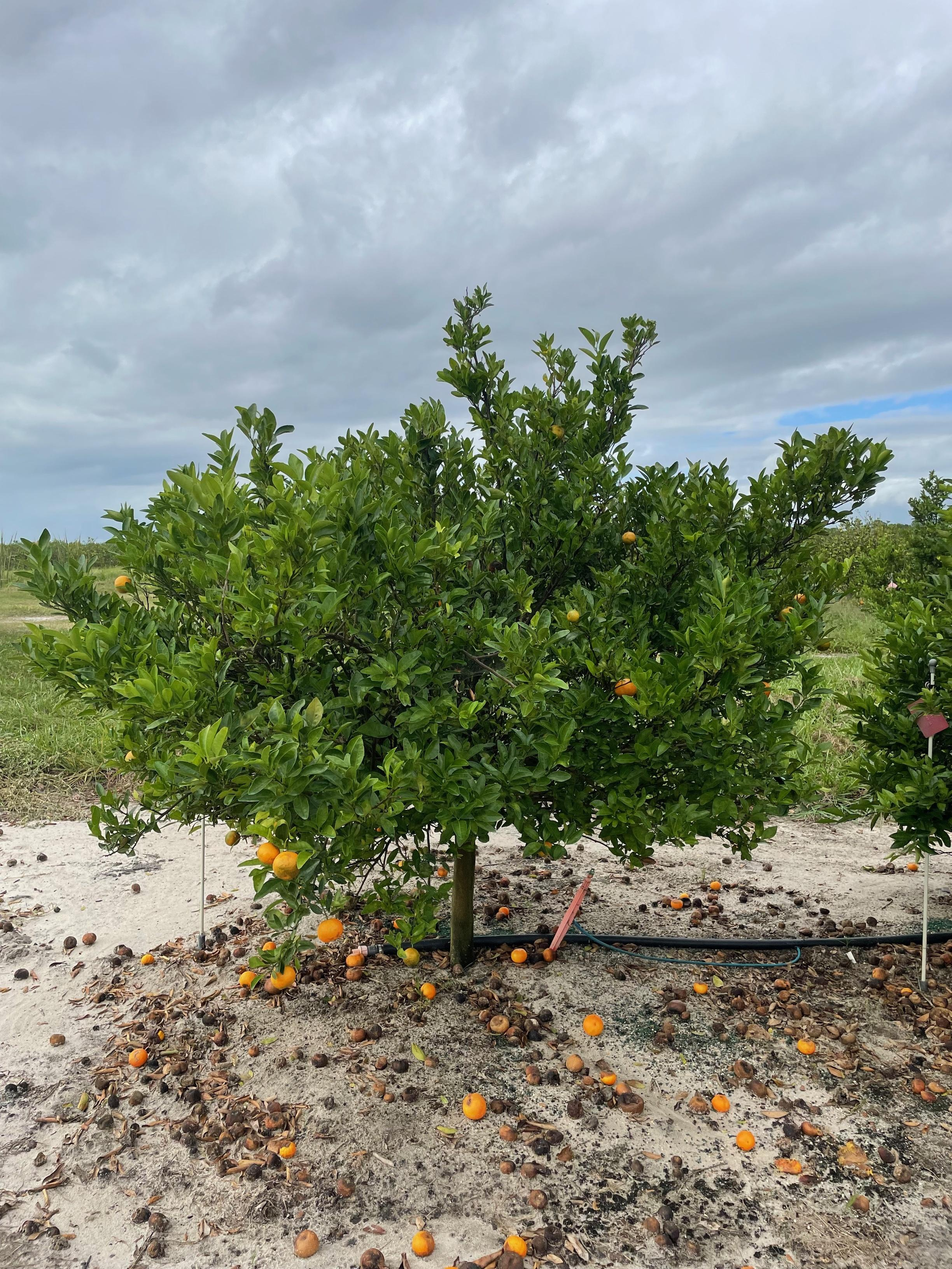fruit_on_ground: (271, 849, 303, 881), (315, 915, 345, 944), (270, 962, 297, 990), (256, 841, 282, 867), (612, 675, 639, 699), (237, 968, 260, 992), (112, 570, 135, 593), (545, 420, 569, 442), (777, 604, 799, 626), (401, 946, 423, 968), (533, 838, 556, 859), (221, 827, 242, 848), (754, 677, 774, 699), (618, 527, 639, 547), (815, 634, 832, 652), (564, 607, 582, 624), (792, 590, 809, 606)
fruit_on_tree: (292, 1227, 321, 1260), (461, 1091, 488, 1120), (410, 1229, 436, 1257), (503, 1233, 529, 1258), (358, 1245, 385, 1268), (581, 1014, 605, 1037), (775, 1156, 803, 1175), (523, 1063, 544, 1087), (526, 1188, 548, 1210), (620, 1092, 643, 1113), (686, 1094, 711, 1113), (335, 1176, 357, 1197), (735, 1129, 756, 1151), (127, 1046, 149, 1067), (732, 1058, 755, 1078), (344, 950, 367, 969), (851, 1192, 871, 1213), (489, 1013, 509, 1033), (497, 1124, 518, 1143), (784, 1001, 804, 1020), (747, 1077, 767, 1096), (711, 1092, 730, 1112), (918, 1087, 940, 1104), (263, 974, 282, 993), (419, 981, 438, 1000), (564, 1052, 583, 1071), (640, 1215, 660, 1233), (278, 1140, 298, 1158), (796, 1037, 816, 1055), (212, 1029, 231, 1047), (520, 1160, 539, 1178), (665, 998, 686, 1014), (908, 1075, 926, 1093), (147, 1026, 165, 1043), (348, 1026, 366, 1043), (497, 1157, 515, 1174), (80, 930, 98, 947), (592, 1071, 611, 1087), (839, 1030, 858, 1046), (47, 1031, 66, 1047), (345, 966, 364, 982), (509, 947, 527, 963), (434, 864, 451, 880), (871, 965, 888, 981), (494, 904, 511, 920), (692, 979, 709, 995), (599, 1070, 617, 1085), (540, 947, 556, 963), (615, 1081, 632, 1096), (477, 1006, 493, 1021), (730, 996, 746, 1011), (115, 942, 132, 956), (261, 939, 278, 953), (879, 953, 896, 967), (390, 915, 405, 930), (140, 951, 156, 965), (129, 881, 143, 895), (580, 1073, 595, 1086), (669, 897, 684, 910), (733, 1020, 747, 1033), (689, 911, 703, 923), (205, 891, 218, 903), (900, 985, 913, 997), (679, 1008, 691, 1021), (498, 874, 511, 886), (906, 860, 919, 871), (709, 879, 721, 890), (678, 891, 690, 902)
